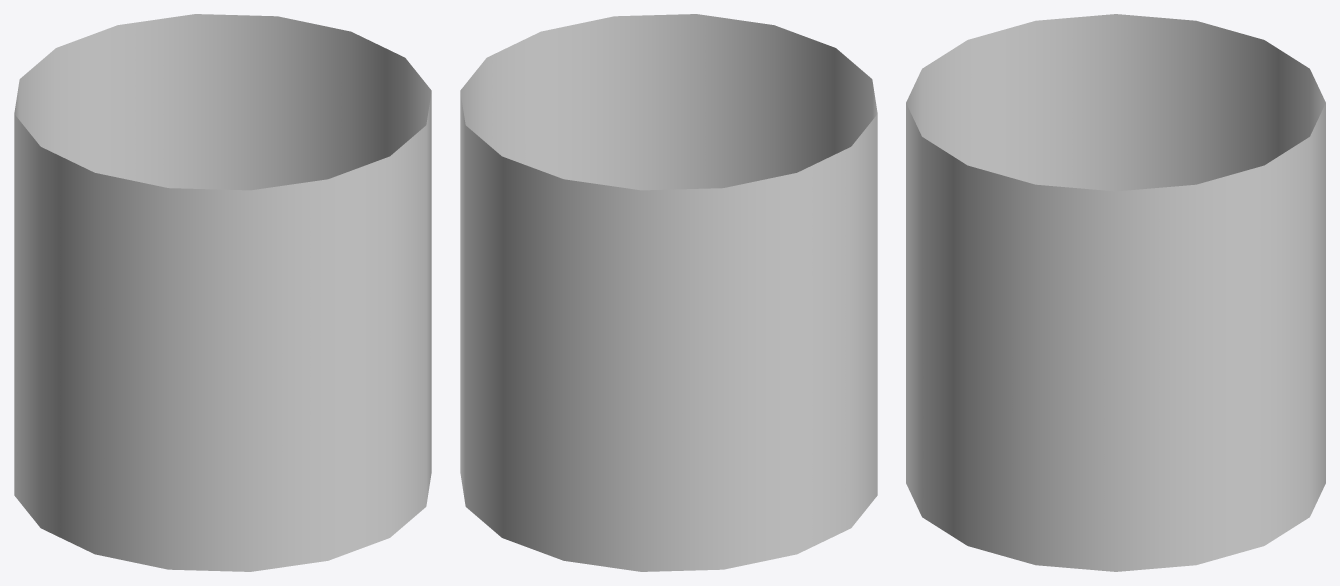
Rendered from godclient_mission_spawn_01m.fbx.
3 views of the same model, side by side, from view 1: azimuth 30°, elevation 25°; view 2: azimuth 150°, elevation 25°; view 3: azimuth 270°, elevation 25° (orthographic).
Visible parts, largest first — view 1: mesh_node; view 2: mesh_node; view 3: mesh_node.
Part boxes in pixels (x1,y1,x2,y2): mesh_node: [14, 14, 431, 571]; mesh_node: [460, 14, 877, 571]; mesh_node: [906, 14, 1325, 571].
Size of the model in its own units: 1 by 1 by 1.
